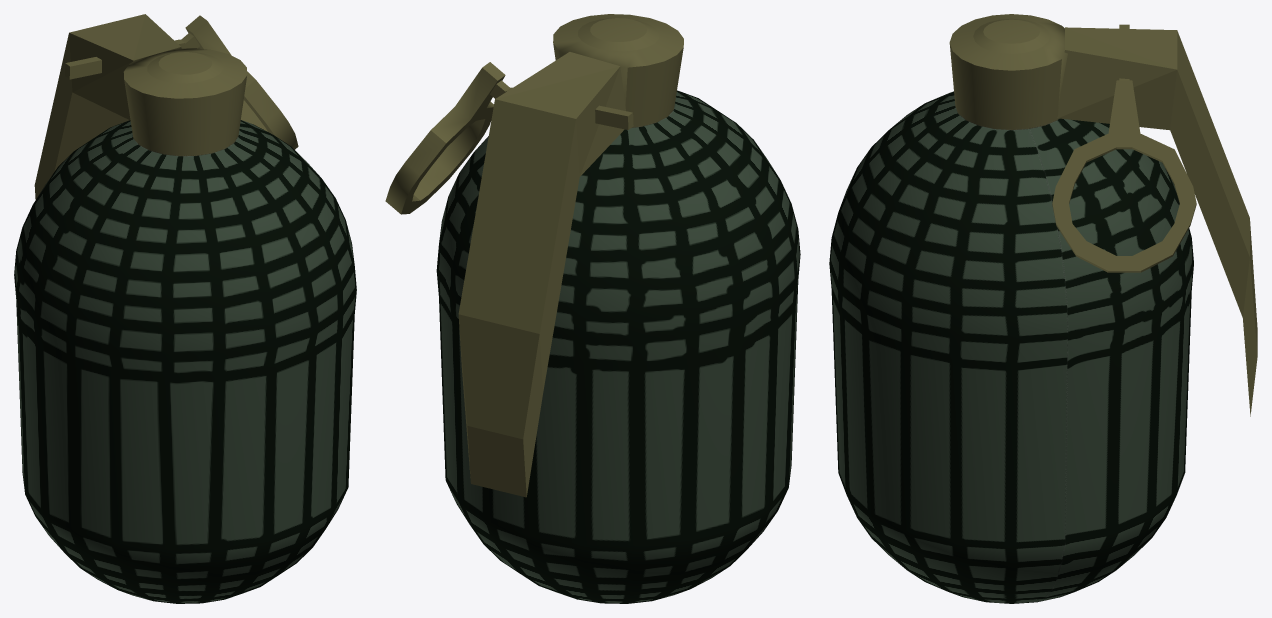
File: Grenade.fbx
The picture shows the model from 3 angles, left to right: view 1: azimuth 30°, elevation 25°; view 2: azimuth 150°, elevation 25°; view 3: azimuth 270°, elevation 25°; orthographic projection. The views are drawn at different scales.
Visible parts, largest first — view 1: Grenade, SafetyHandle, Pin; view 2: Grenade, SafetyHandle, Pin; view 3: Grenade, SafetyHandle, Pin.
Boxes of the visible parts, box(x1,y1,x2,y2) form: Grenade: box(14, 48, 356, 603); SafetyHandle: box(34, 14, 181, 199); Pin: box(65, 15, 298, 149); Grenade: box(436, 14, 800, 603); SafetyHandle: box(458, 52, 625, 497); Pin: box(385, 62, 633, 214); Grenade: box(829, 14, 1193, 603); SafetyHandle: box(1057, 27, 1257, 416); Pin: box(1052, 24, 1196, 272).
Bounding box in the file's own units: 2.01 × 3.37 × 2.35.
